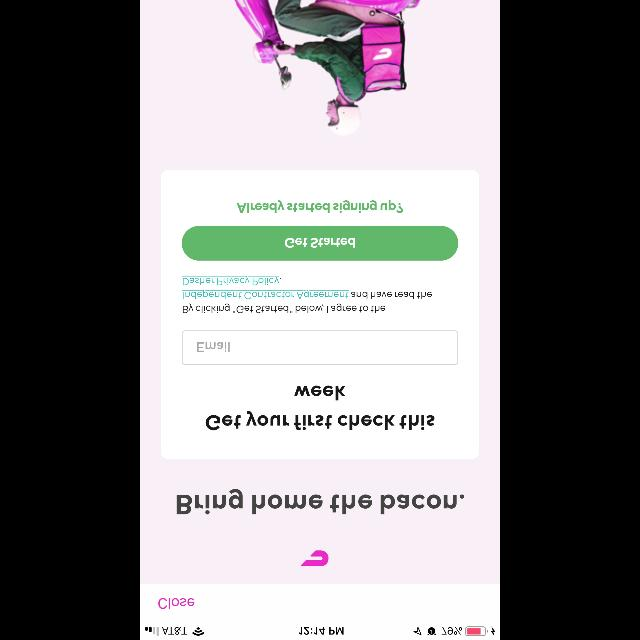image: (235, 0, 420, 136), (301, 550, 329, 566)
input: (182, 330, 458, 364)
text: (206, 386, 434, 430), (182, 276, 432, 312), (176, 489, 464, 515), (237, 200, 403, 213), (159, 598, 195, 608), (197, 342, 230, 352)
textbutton: (182, 226, 458, 260)
uppertaskbar: (140, 626, 500, 640)
